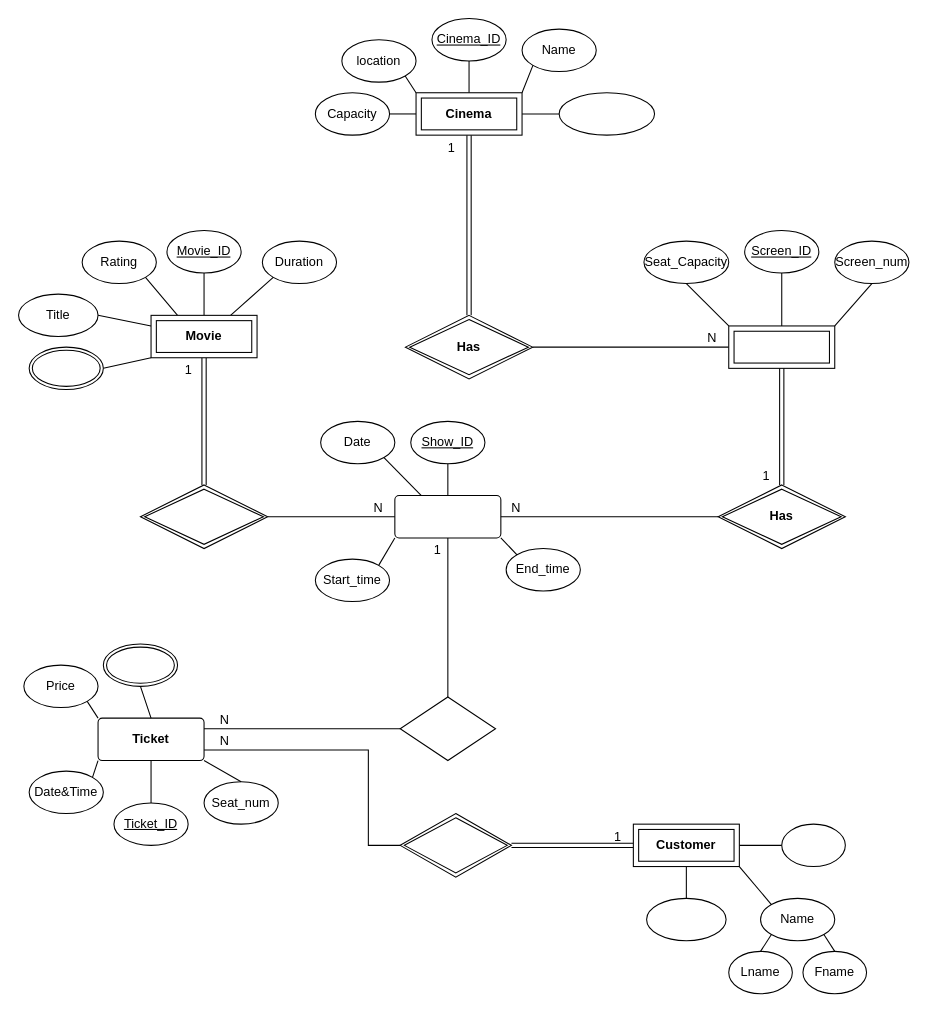
The diagram is 927 pixels wide and 1012 high, and some of its shapes have lost their labels. The centre of each missing label's shape, as x and y in pixels:
"Buy" belongs at pixel 455 844.
"Customer_ID" belongs at pixel 686 919.
"Discount" belongs at pixel 140 664.
"Genre" belongs at pixel 65 368.
"Has_Ticket" belongs at pixel 447 728.
"num_of_screen" belongs at pixel 606 113.
"Phone" belongs at pixel 813 845.
"Screen" belongs at pixel 781 346.
"Show" belongs at pixel 447 516.
"Show_in" belongs at pixel 203 516.
